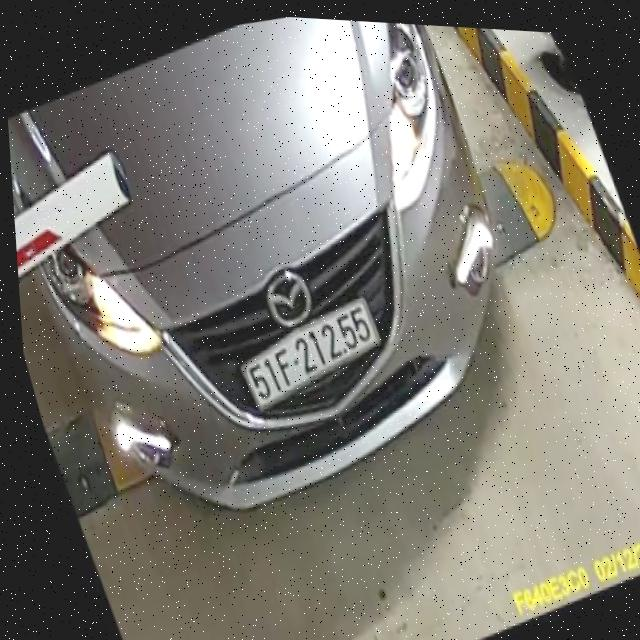car: (0, 0, 577, 567)
plate: (223, 287, 398, 418)
